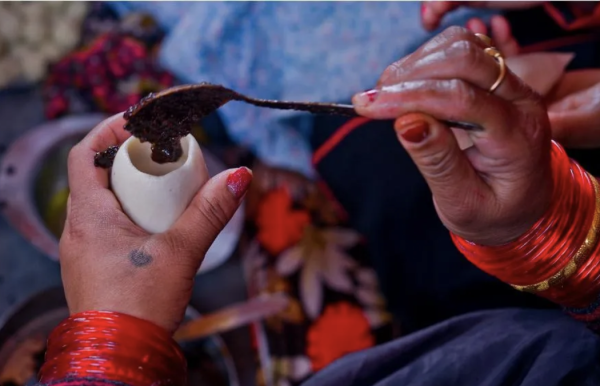yomari: (108, 115, 207, 219)
